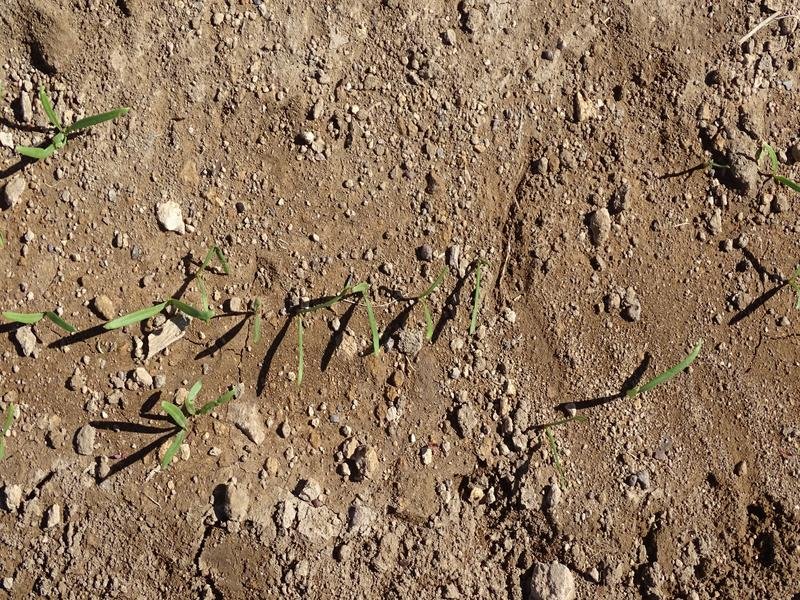Espinaca: (14, 84, 140, 160), (155, 380, 240, 460), (617, 339, 706, 407), (280, 289, 345, 377), (109, 280, 215, 328), (354, 273, 393, 359), (413, 271, 452, 332), (1, 305, 78, 335)
